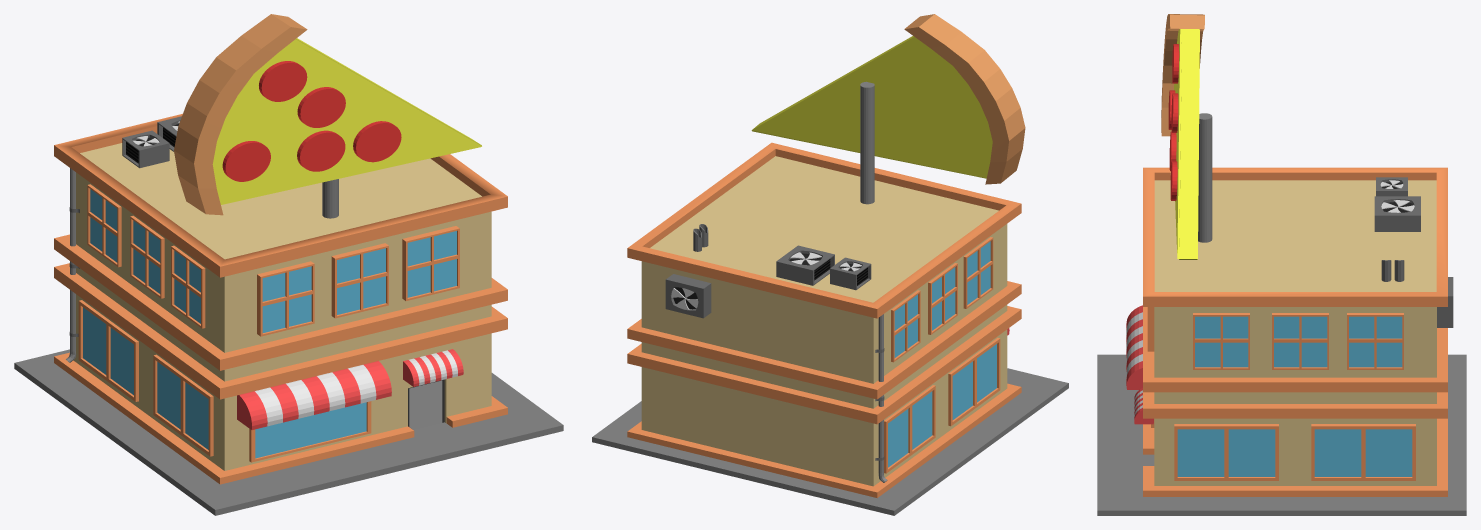
File: pizzaStore.fbx
3 renders of one model, left to right at view 1: azimuth 30°, elevation 25°; view 2: azimuth 150°, elevation 25°; view 3: azimuth 270°, elevation 25°, orthographic. The views are drawn at different scales.
Parts seen in each view (by area): view 1: Pizza house.001; view 2: Pizza house.001; view 3: Pizza house.001.
Part boxes in pixels (bbox=[...]): Pizza house.001: bbox=[14, 14, 563, 515]; Pizza house.001: bbox=[592, 14, 1068, 515]; Pizza house.001: bbox=[1097, 14, 1466, 515].
Size of the model in its own units: 700 by 830 by 700.
